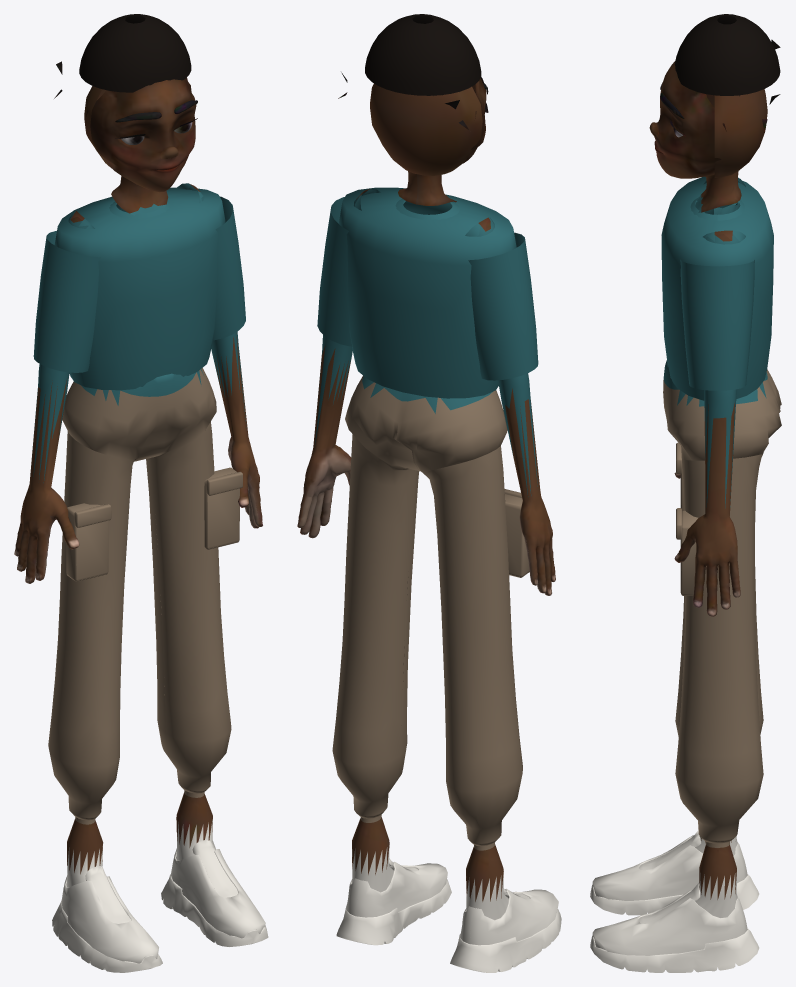
The model's file is resident.glb.
3 views of the same model, side by side, from view 1: azimuth 30°, elevation 25°; view 2: azimuth 150°, elevation 25°; view 3: azimuth 270°, elevation 25° (orthographic). The views are drawn at different scales.
Parts seen in each view (by area): view 1: Civilian_Resident; view 2: Civilian_Resident; view 3: Civilian_Resident.
Part boxes in pixels (<box>): Civilian_Resident: <box>14,14,268,972</box>; Civilian_Resident: <box>297,14,561,972</box>; Civilian_Resident: <box>590,14,781,972</box>.
Size of the model in its own units: 0.4484 by 1.63 by 0.3103.
5 materials, 1 textured.
